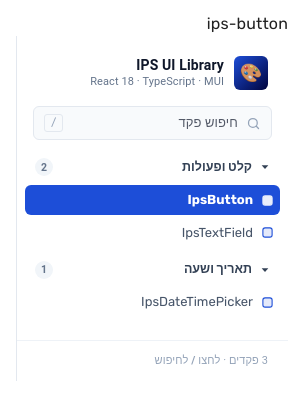
Test: DemoSidebar › collapses and re-expands a group
Click the text "תאריך ושעה". click: [218, 269]
box: x1=184 y1=261 x2=252 y2=276
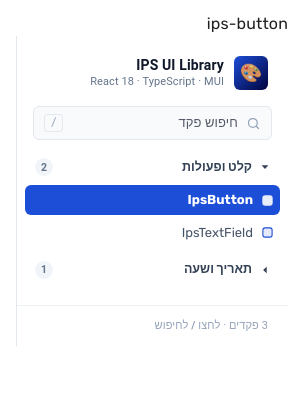
expect the button "IpsDateTimePicker" is gone: met
Click the text "תאריך ושעה". click: [218, 269]
box: x1=184 y1=261 x2=252 y2=276
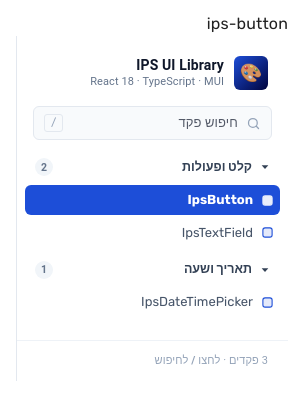
expect the text "IpsDateTimePicker" is shown: met, box x1=141 y1=294 x2=253 y2=310
